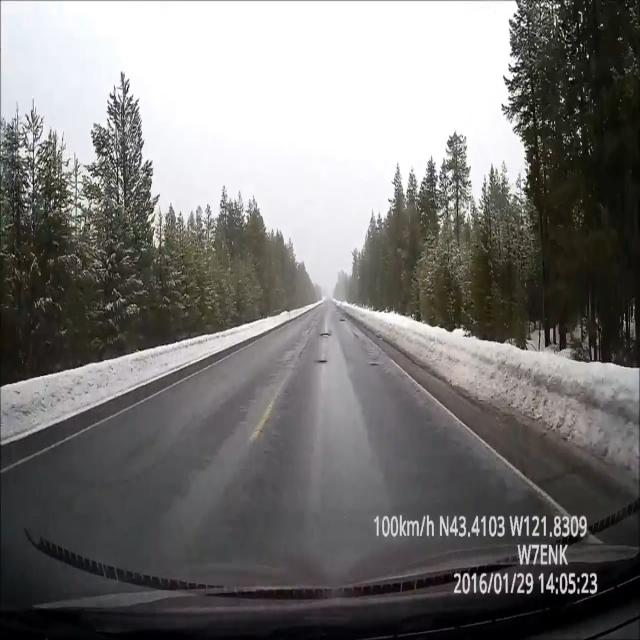Pothole: (318, 323, 332, 344), (368, 358, 382, 372), (314, 356, 331, 366)
